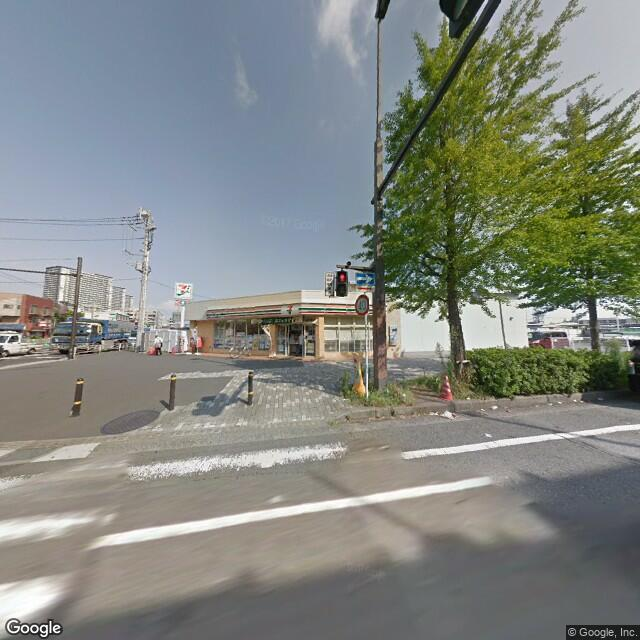7-eleven: (204, 297, 357, 322), (175, 280, 193, 300)
